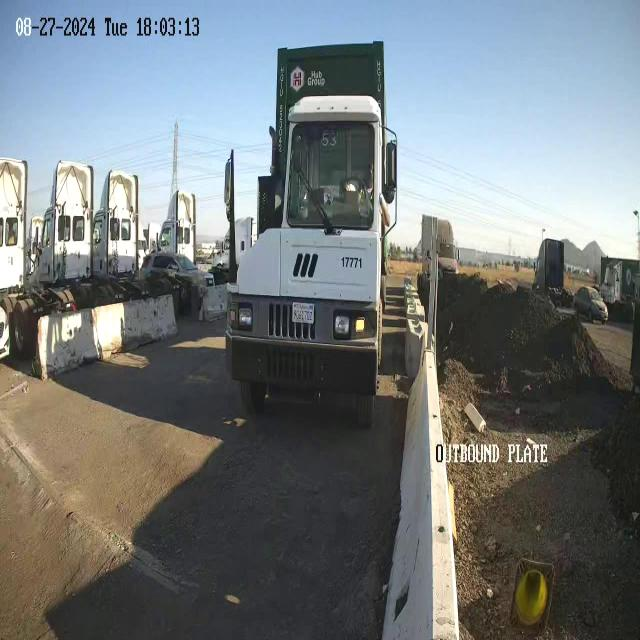CONTAINER: (270, 41, 387, 298)
